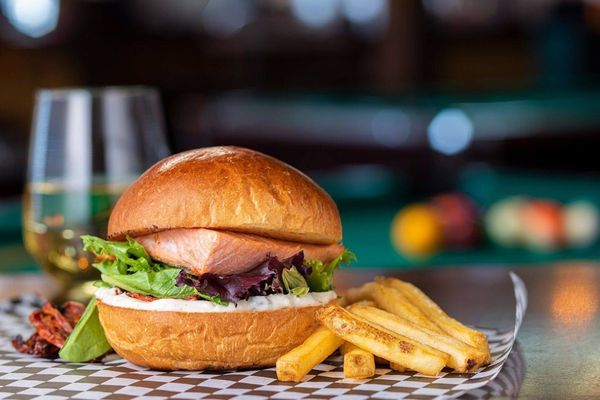pizza: (22, 85, 173, 274)
soup: (50, 144, 350, 372)
